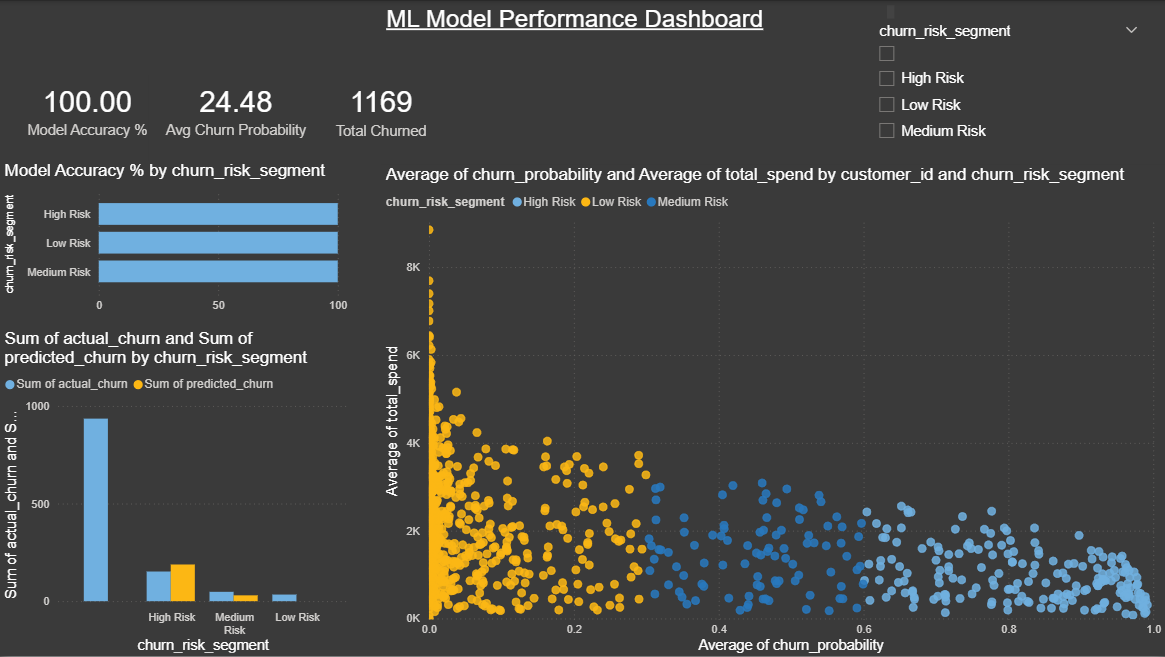

Layout of this report page (visuals, bound fields, positions):
{"tool":"powerbi","page":{"name":"Page 4","canvas":[1280,720],"ordinal":3},"visuals":[{"type":"textbox","box":[418.5,0,568.1,37],"z":0},{"type":"card","fields":{"Values":["fct_churn.Model Accuracy %"]},"box":[0,57.6,192.1,122.1],"z":1000},{"type":"card","fields":{"Values":["fct_churn.Avg Churn Probability"]},"box":[163.3,57.6,192.1,122.1],"z":2000},{"type":"card","fields":{"Values":["fct_churn.Total Churned"]},"box":[351.3,63.1,134.5,112.5],"z":3000},{"type":"clusteredBarChart","fields":{"Category":["fct_churn.churn_risk_segment"],"Y":["fct_churn.Model Accuracy %"]},"box":[0,175.6,387,174.3],"z":4000},{"type":"clusteredColumnChart","fields":{"Category":["fct_churn.churn_risk_segment"],"Y":["Sum(fct_churn.actual_churn)","Sum(fct_churn.predicted_churn)"]},"box":[0,359.5,387,360.9],"z":5000},{"type":"scatterChart","fields":{"X":["fct_churn.churn_probability"],"Series":["fct_churn.churn_risk_segment"],"Y":["Avg(fct_churn.total_spend)"],"Category":["fct_churn.customer_id"]},"box":[418.5,179.8,861.8,540.7],"z":6000},{"type":"slicer","fields":{"Values":["fct_churn.churn_risk_segment"]},"box":[952.3,19.2,308.7,149.6],"z":6001}]}

Visuals, with their boxes in screenshot pixels (x1, y1, x2, y2), scaled from the page's 1280x720 canvas onto the 1165x657 screenshot:
textbox: region(381, 0, 898, 34)
card - fct_churn.Model Accuracy %: region(0, 53, 175, 164)
card - fct_churn.Avg Churn Probability: region(149, 53, 323, 164)
card - fct_churn.Total Churned: region(320, 58, 442, 160)
clusteredBarChart - fct_churn.churn_risk_segment x fct_churn.Model Accuracy %: region(0, 160, 352, 319)
clusteredColumnChart - fct_churn.churn_risk_segment x Sum(fct_churn.actual_churn): region(0, 328, 352, 656)
scatterChart - fct_churn.churn_probability x fct_churn.churn_risk_segment: region(381, 164, 1164, 656)
slicer - fct_churn.churn_risk_segment: region(867, 18, 1148, 154)
